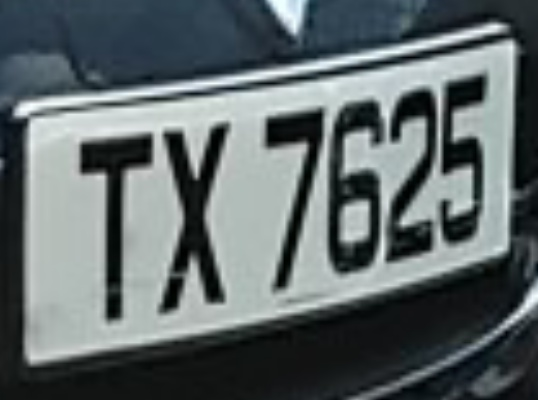2: (383, 78, 439, 269)
5: (437, 70, 488, 255)
6: (324, 93, 386, 281)
7: (250, 99, 327, 304)
T: (64, 123, 160, 326)
X: (152, 112, 235, 315)
